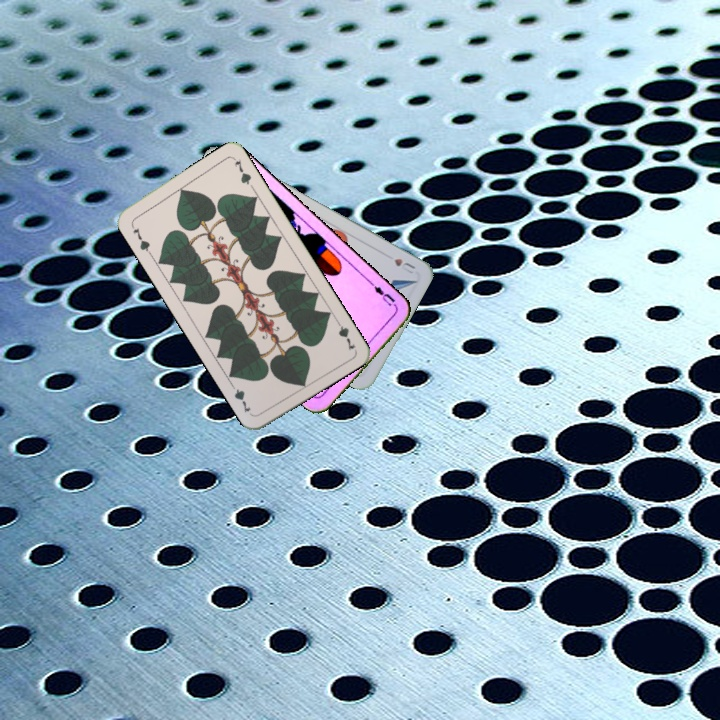EU: (367, 279, 400, 311)
G7: (331, 315, 358, 353), (129, 223, 154, 257)
HU: (390, 254, 418, 276)
